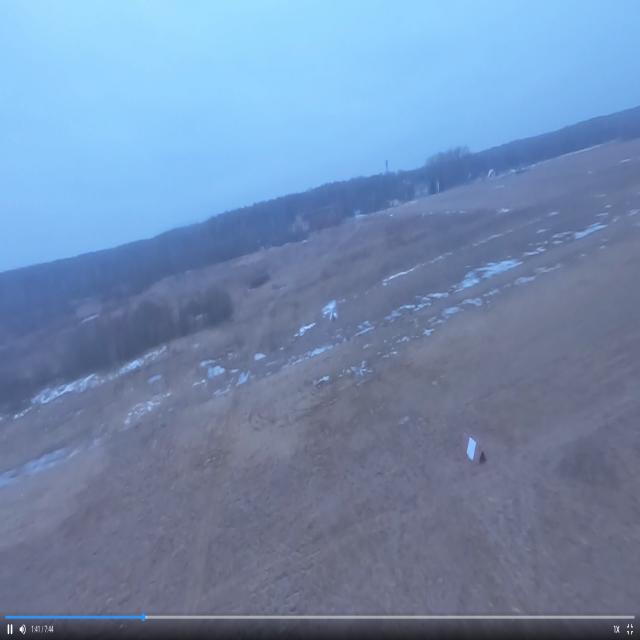planedrone: (296, 231, 316, 251)
